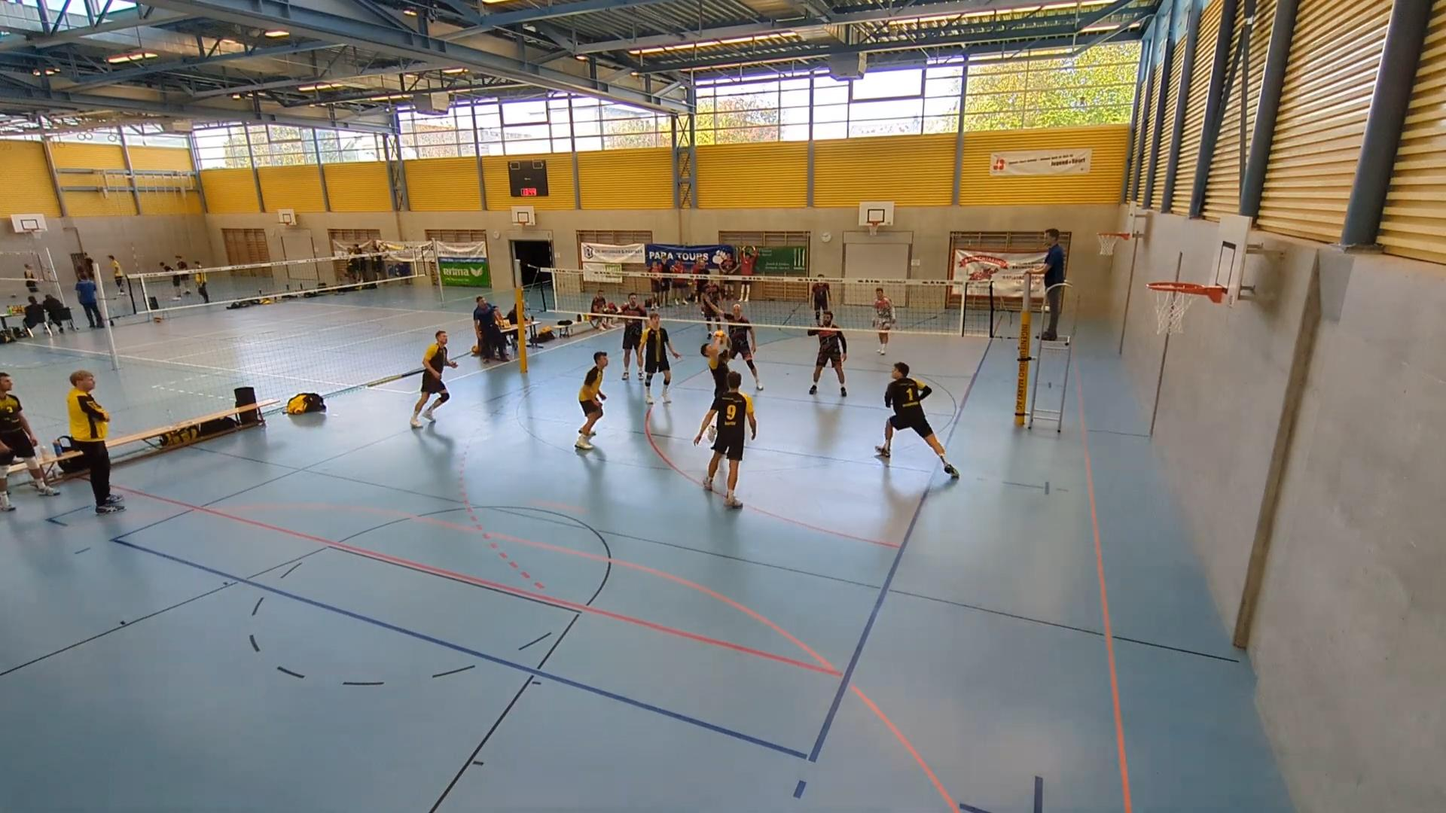Player: (876, 362, 957, 477), (694, 371, 756, 507), (410, 330, 457, 428), (642, 312, 681, 404), (807, 311, 847, 396), (575, 352, 608, 449), (728, 303, 763, 391), (619, 293, 646, 380), (698, 278, 724, 331), (874, 287, 894, 355), (810, 275, 831, 324)
Set: (693, 330, 734, 434)
